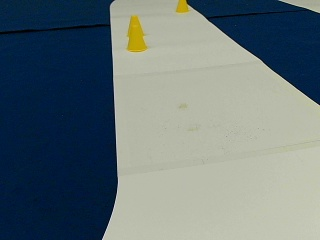cone: (126, 19, 146, 51), (128, 15, 142, 29), (175, 0, 187, 11)
